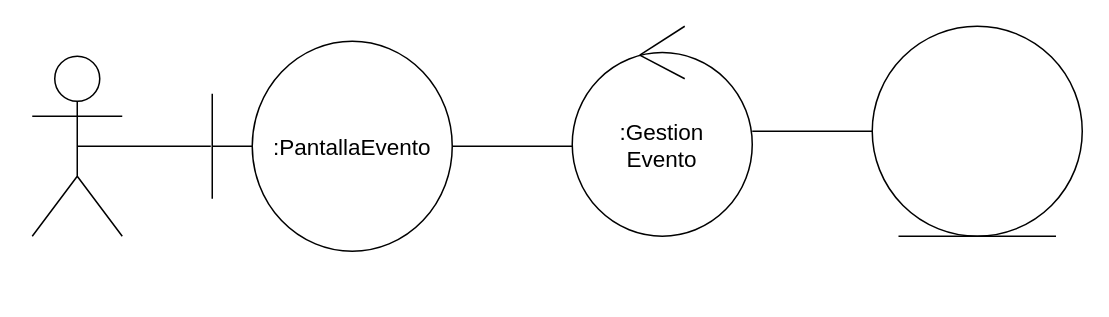
Image size: 1109x317. Some labels were removed from this diagram. The shapes that lost their labels are listed below. From the top down, each one's centre as x and y in pixels, then its label:
At [76,145]: ":Organizador".
At [976,130]: ":Evento".
